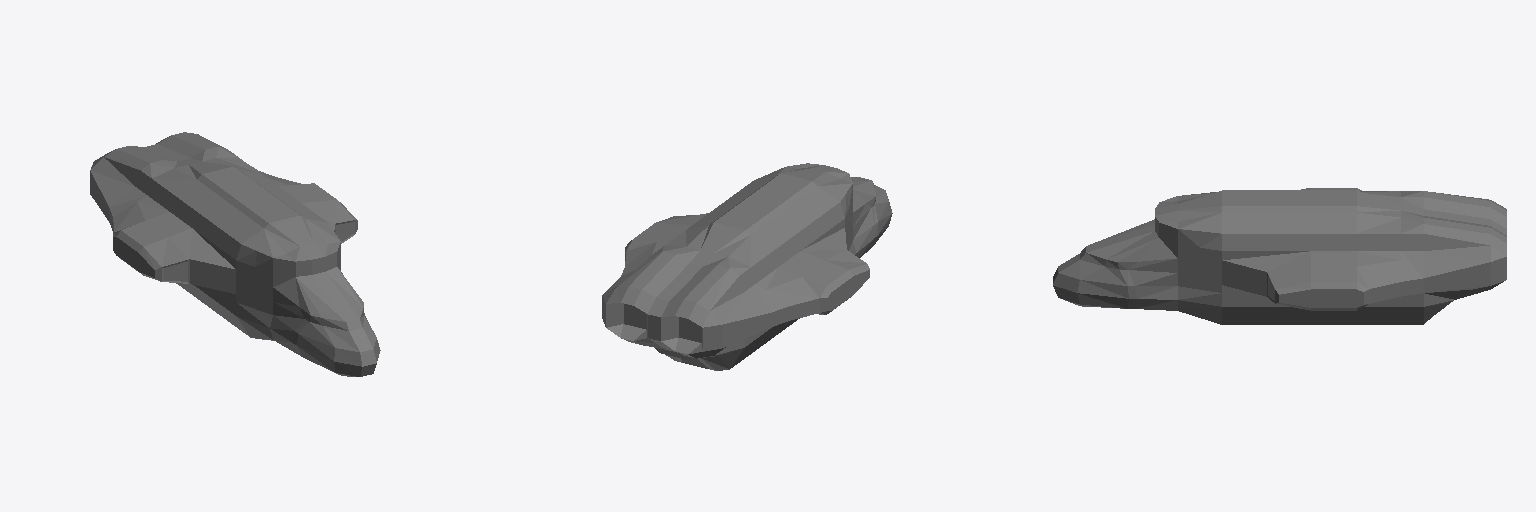
File: wescott-7-front.obj
3 renders of one model, left to right at view 1: azimuth 30°, elevation 25°; view 2: azimuth 150°, elevation 25°; view 3: azimuth 270°, elevation 25°, orthographic.
Parts seen in each view (by area): view 1: Mesh_Cube.002; view 2: Mesh_Cube.002; view 3: Mesh_Cube.002.
Boxes of the visible parts, box(x1,y1,x2,y2) form: Mesh_Cube.002: box(90, 132, 380, 376); Mesh_Cube.002: box(602, 163, 892, 370); Mesh_Cube.002: box(1053, 188, 1506, 324).
Bounding box in the file's own units: 4.2 × 2.28 × 8.14.